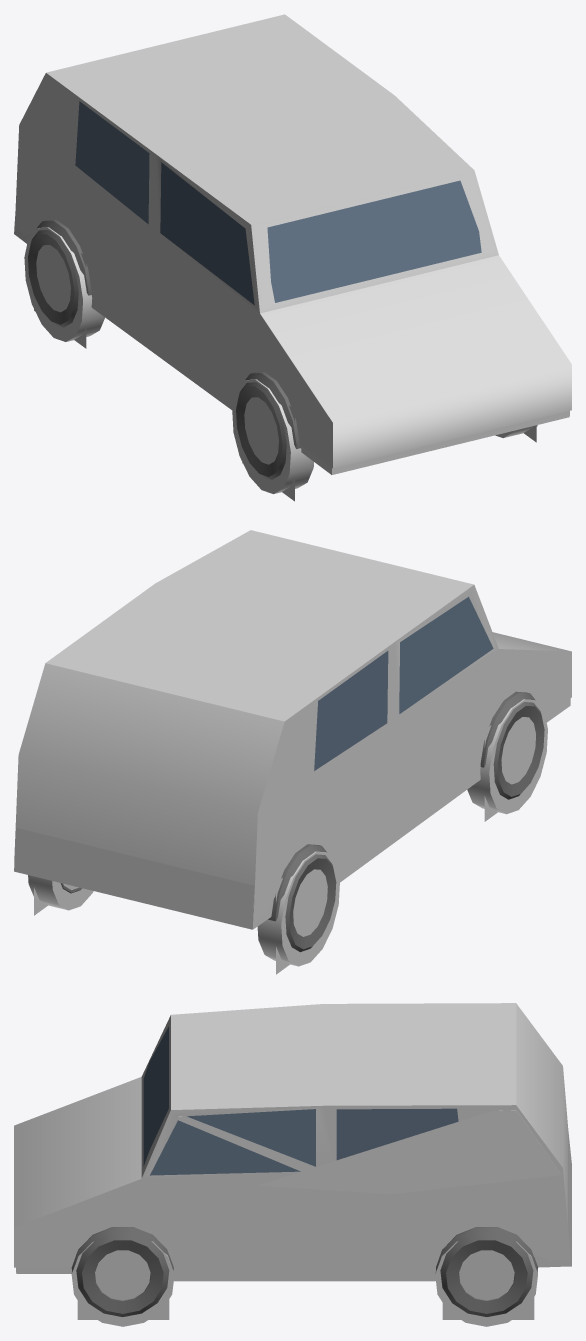
File: P_car01.fbx
3 views of the same model, one above another, from view 1: azimuth 30°, elevation 25°; view 2: azimuth 150°, elevation 25°; view 3: azimuth 270°, elevation 25° (orthographic). The views are drawn at different scales.
Visible parts, largest first — view 1: hp_car01, mp_car01; view 2: hp_car01, mp_car01, lp_car01; view 3: hp_car01, mp_car01, lp_car01.
Boxes of the visible parts, x1,y1,x2,y2 form: hp_car01: (14,14,571,479); mp_car01: (14,216,569,494); hp_car01: (14,530,571,952); mp_car01: (14,698,570,966); lp_car01: (34,692,537,974); hp_car01: (14,1003,570,1316); mp_car01: (16,1110,571,1326); lp_car01: (77,1239,534,1319).
Bounding box in the file's own units: 174 × 160 × 370.
